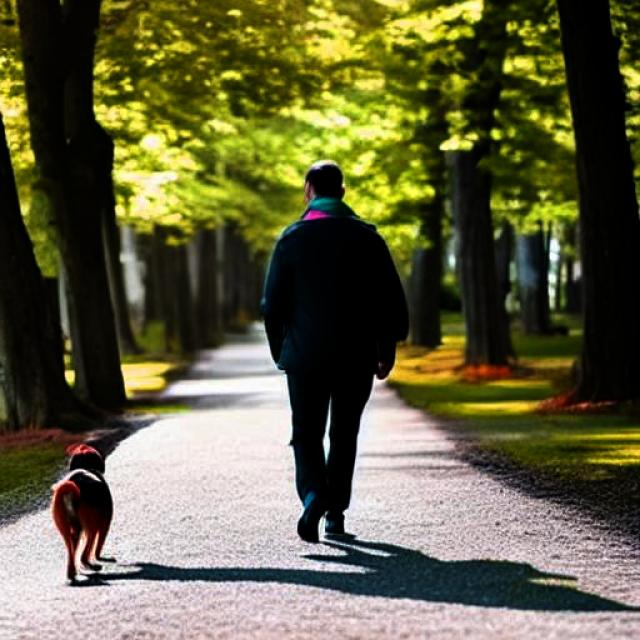Unleashed_Dog: (51, 332, 376, 582)
